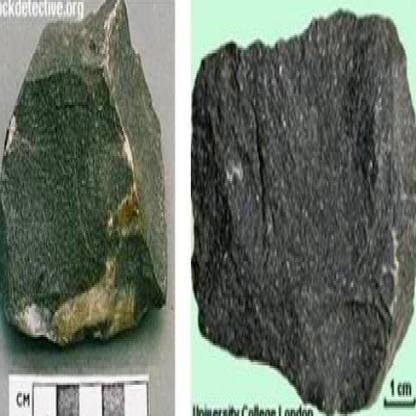Igneous_Basalt: (189, 10, 415, 412), (0, 0, 168, 352)
